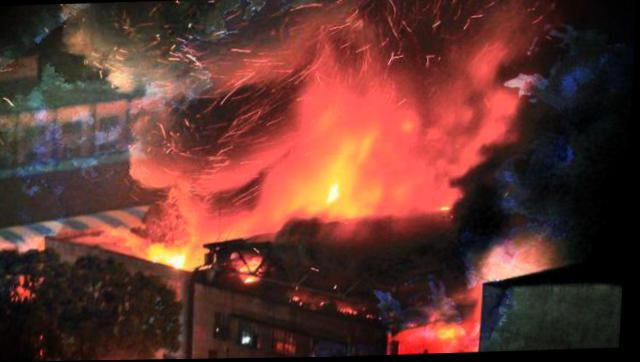fire: (254, 41, 466, 229), (455, 36, 524, 157), (397, 317, 485, 354), (144, 237, 209, 274)
